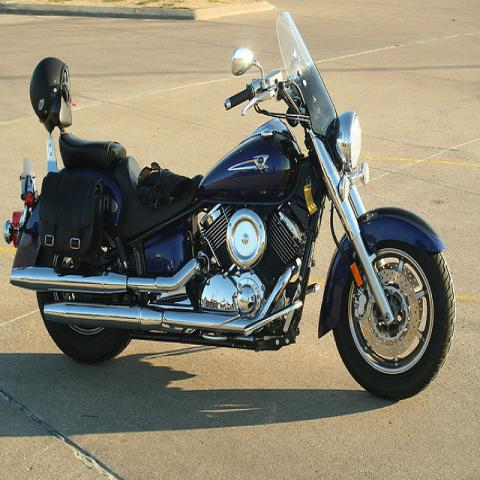motorcycle: (4, 12, 457, 398)
